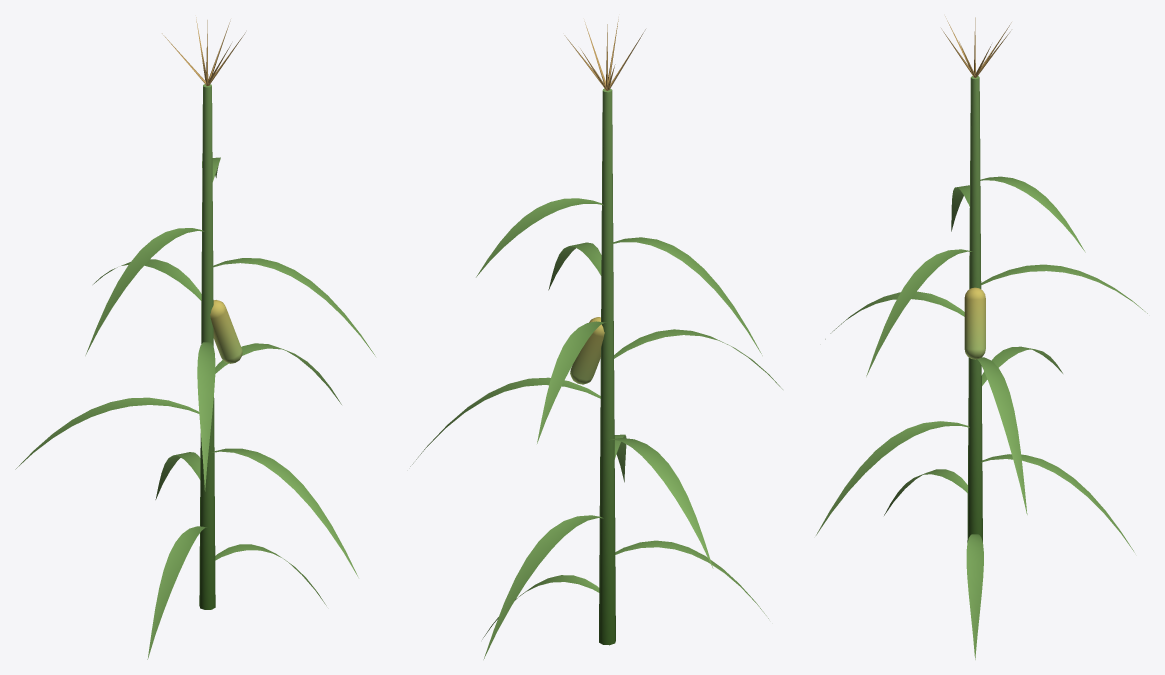
The model's file is corn.glb.
3 views of the same model, side by side, from view 1: azimuth 30°, elevation 25°; view 2: azimuth 150°, elevation 25°; view 3: azimuth 270°, elevation 25° (orthographic). The views are drawn at different scales.
Parts seen in each view (by area): view 1: stalk, leaf_6, leaf_1, leaf_9, leaf_3, ear, leaf_4, leaf_8, leaf_7, tassel, leaf_2, leaf_5; view 2: stalk, leaf_2, leaf_4, leaf_7, ear, leaf_10, leaf_9, leaf_5, leaf_1, leaf_6, tassel, leaf_8; view 3: stalk, leaf_5, leaf_8, ear, leaf_0, leaf_3, leaf_2, leaf_10, leaf_7, leaf_6, tassel, leaf_1 (+1 smaller).
Part boxes in pixels (<box>): stalk: <box>199,84,215,609</box>; leaf_6: <box>197,342,215,491</box>; leaf_1: <box>147,526,206,659</box>; leaf_9: <box>85,228,204,355</box>; leaf_3: <box>212,448,358,577</box>; ear: <box>210,300,242,363</box>; leaf_4: <box>15,397,199,469</box>; leaf_8: <box>212,258,375,356</box>; leaf_7: <box>93,259,201,300</box>; tassel: <box>162,17,245,85</box>; leaf_2: <box>155,452,200,499</box>; leaf_5: <box>215,343,341,404</box>; stalk: <box>599,88,615,645</box>; leaf_2: <box>483,515,603,659</box>; leaf_4: <box>609,438,713,568</box>; leaf_7: <box>537,321,606,443</box>; ear: <box>570,317,604,384</box>; leaf_10: <box>476,198,603,277</box>; leaf_9: <box>612,237,762,355</box>; leaf_5: <box>410,377,600,466</box>; leaf_1: <box>615,540,768,618</box>; leaf_6: <box>614,329,782,389</box>; tassel: <box>564,19,645,90</box>; leaf_8: <box>548,242,601,290</box>; stalk: <box>967,76,982,542</box>; leaf_5: <box>977,357,1027,514</box>; leaf_8: <box>866,249,972,376</box>; ear: <box>964,287,985,359</box>; leaf_0: <box>966,534,983,659</box>; leaf_3: <box>816,421,969,535</box>; leaf_2: <box>981,454,1134,552</box>; leaf_10: <box>978,176,1085,252</box>; leaf_7: <box>981,264,1147,313</box>; leaf_6: <box>825,291,964,339</box>; tassel: <box>941,16,1011,77</box>; leaf_1: <box>884,469,967,515</box>.
Size of the model in its own units: 1.37 by 2.61 by 1.35.
